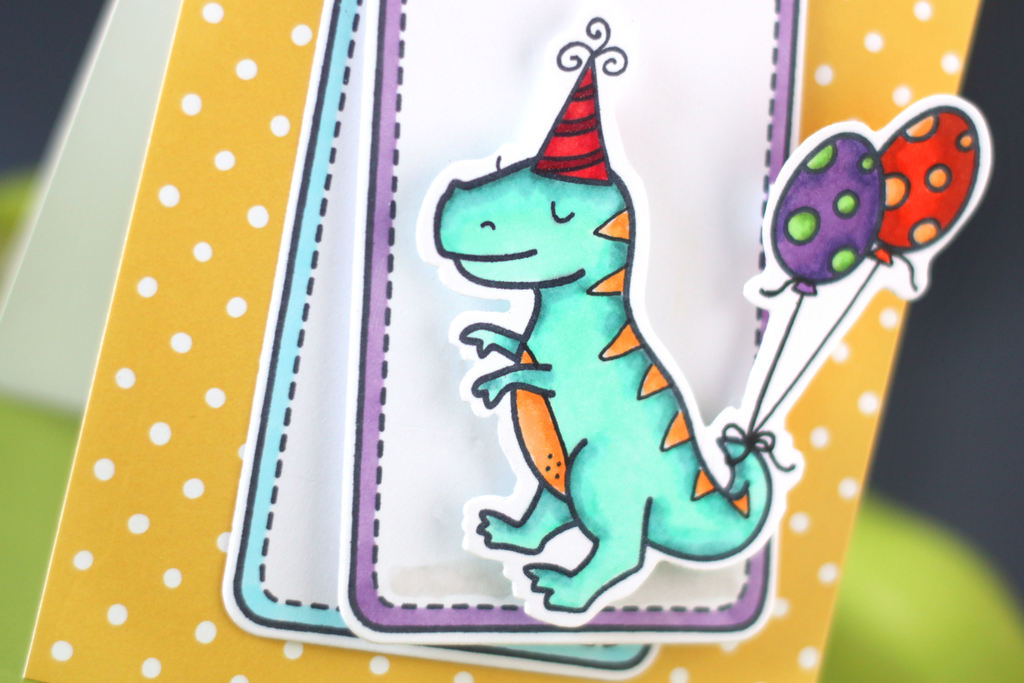Animal: (429, 156, 772, 615)
